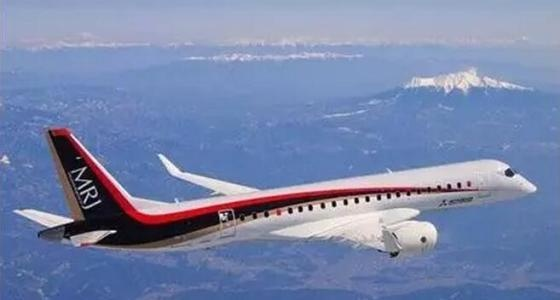airplane: (22, 126, 539, 258)
